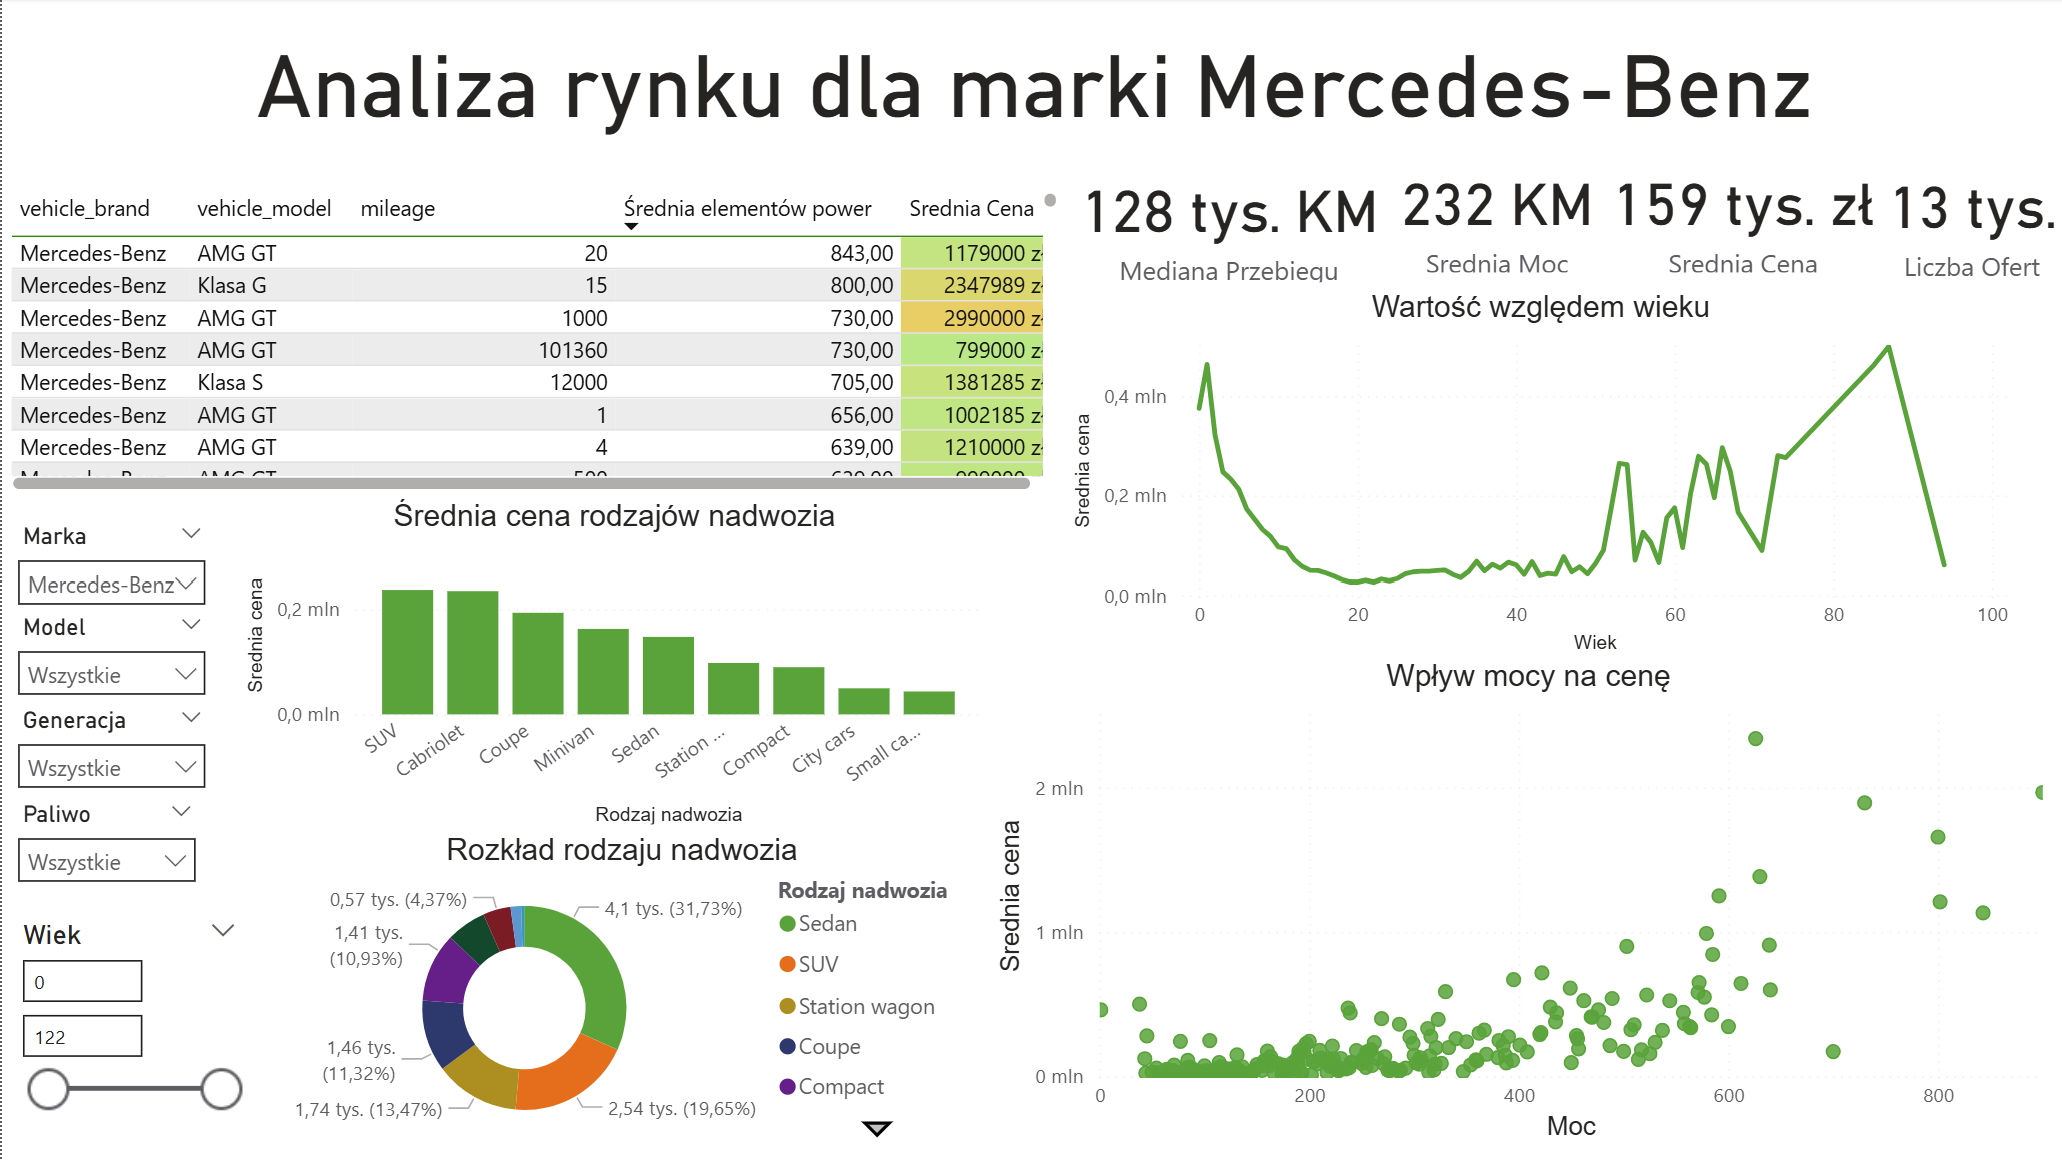

The page's visual inventory and layout, read from the dashboard file:
{"tool":"powerbi","page":{"name":"Strona 1","canvas":[1280,720],"ordinal":0},"visuals":[{"type":"card","fields":{"Values":["_Measures.Liczba Ofert"]},"box":[1161.2,96,119,82.4],"z":0},{"type":"card","fields":{"Values":["_Measures.Mediana Przebiegu"]},"box":[659.3,99.1,202,81.8],"z":1000},{"type":"card","fields":{"Values":["_Measures.Srednia Cena"]},"box":[991.4,96,174.7,78.7],"z":2000},{"type":"card","fields":{"Values":["_Measures.Srednia Moc"]},"box":[861.3,96,130.1,78.7],"z":3000},{"type":"slicer","title":"Brand","fields":{"Values":["otomoto_powerbi_data (4).vehicle_brand"]},"box":[0,320.3,136.3,60.7],"z":4000},{"type":"slicer","title":"Model","fields":{"Values":["otomoto_powerbi_data (4).vehicle_model"]},"box":[0,376.1,136.3,65.7],"z":5000},{"type":"slicer","title":"Age","fields":{"Values":["otomoto_powerbi_data (4).vehicle_age"]},"box":[0,564.5,156.8,155.5],"z":6000},{"type":"slicer","title":"Fuel type ","fields":{"Values":["otomoto_powerbi_data (4).fuel_type"]},"box":[0,492,130.1,61.3],"z":7000},{"type":"lineChart","title":"Wartość względem wieku","fields":{"Category":["otomoto_powerbi_data (4).vehicle_age"],"Y":["Avg(otomoto_powerbi_data (4).price)"]},"box":[659.3,180.9,588.6,229.3],"z":8000},{"type":"slicer","title":"Generation","fields":{"Values":["otomoto_powerbi_data (4).generation"]},"box":[0,433.7,136.3,58.2],"z":9000},{"type":"scatterChart","title":"Wpływ mocy na cenę","fields":{"Y":["Avg(otomoto_powerbi_data (4).price)"],"X":["otomoto_powerbi_data (4).power"]},"box":[612.2,409,667.3,303.6],"z":10000},{"type":"donutChart","title":"Rozkład rodzaju nadwozia","fields":{"Category":["otomoto_powerbi_data (4).body_type"],"Y":["CountNonNull(otomoto_powerbi_data (4).body_type)"]},"box":[161.7,516.8,444.9,195.8],"z":11000},{"type":"columnChart","title":"Średnia cena rodzajów nadwozia","fields":{"Category":["otomoto_powerbi_data (4).body_type"],"Y":["Avg(otomoto_powerbi_data (4).price)"]},"box":[146.9,310.4,465.3,206.3],"z":12000},{"type":"tableEx","fields":{"Values":["otomoto_powerbi_data (4).vehicle_brand","otomoto_powerbi_data (4).vehicle_model","otomoto_powerbi_data (4).mileage","Avg(otomoto_powerbi_data (4).power)","_Measures.Srednia Cena"]},"box":[0,115.2,659.3,195.2],"z":13000},{"type":"card","fields":{"Values":["_Measures.Tytuł"]},"box":[0,0,1279.5,96],"z":14000}]}

Visuals, with their boxes in screenshot pixels (x1, y1, x2, y2), scaled from the page's 1280x720 canvas onto the 2062x1160 screenshot:
card - _Measures.Liczba Ofert: rect(1871, 155, 2061, 287)
card - _Measures.Mediana Przebiegu: rect(1062, 160, 1388, 291)
card - _Measures.Srednia Cena: rect(1597, 155, 1879, 281)
card - _Measures.Srednia Moc: rect(1388, 155, 1597, 281)
"Brand" slicer: rect(0, 516, 220, 614)
"Model" slicer: rect(0, 606, 220, 712)
"Age" slicer: rect(0, 909, 253, 1159)
"Fuel type " slicer: rect(0, 793, 210, 891)
"Wartość względem wieku" lineChart: rect(1062, 291, 2010, 661)
"Generation" slicer: rect(0, 699, 220, 793)
"Wpływ mocy na cenę" scatterChart: rect(986, 659, 2061, 1148)
"Rozkład rodzaju nadwozia" donutChart: rect(260, 833, 977, 1148)
"Średnia cena rodzajów nadwozia" columnChart: rect(237, 500, 986, 832)
tableEx - otomoto_powerbi_data (4).vehicle_brand x otomoto_powerbi_data (4).vehicle_model: rect(0, 186, 1062, 500)
card - _Measures.Tytuł: rect(0, 0, 2061, 155)
